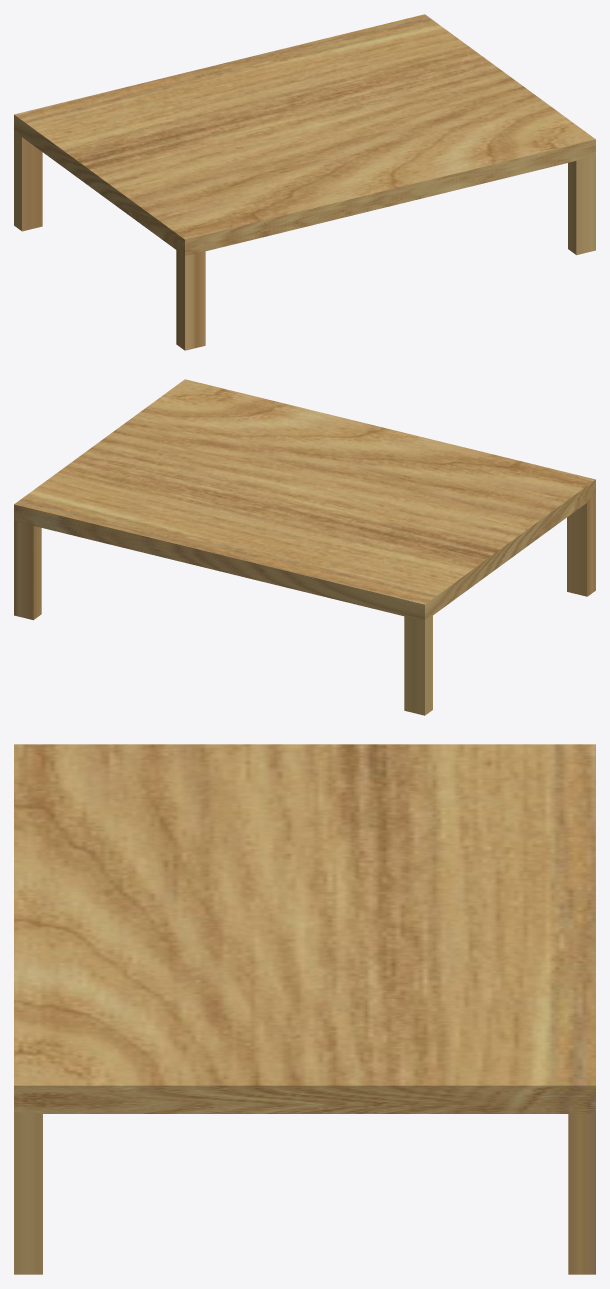
Rendered from table_3.dae.
The picture shows the model from 3 angles, top to bottom: view 1: azimuth 30°, elevation 25°; view 2: azimuth 150°, elevation 25°; view 3: azimuth 270°, elevation 25°; orthographic projection. The views are drawn at different scales.
Visible parts, largest first — view 1: Cube; view 2: Cube; view 3: Cube.
Boxes of the visible parts, x1,y1,x2,y2 form: Cube: (14,14,595,350); Cube: (14,379,595,715); Cube: (14,744,595,1274).
Bounding box in the file's own units: 2.97 × 2.14 × 0.767.
Materials: 1 (1 with a texture image).
